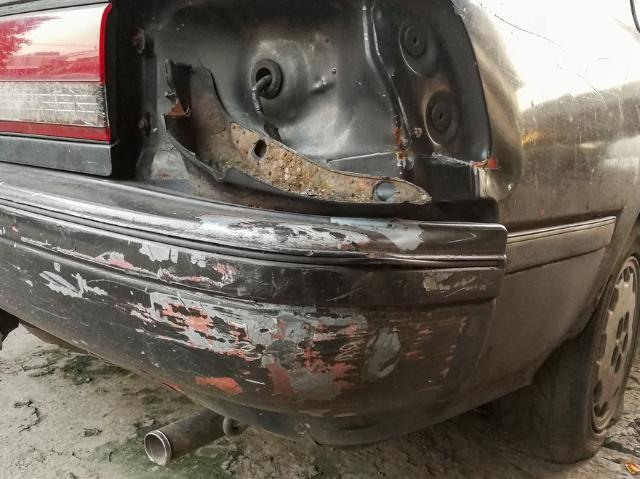Bumper: (16, 181, 489, 431)
Light: (118, 0, 470, 195)
